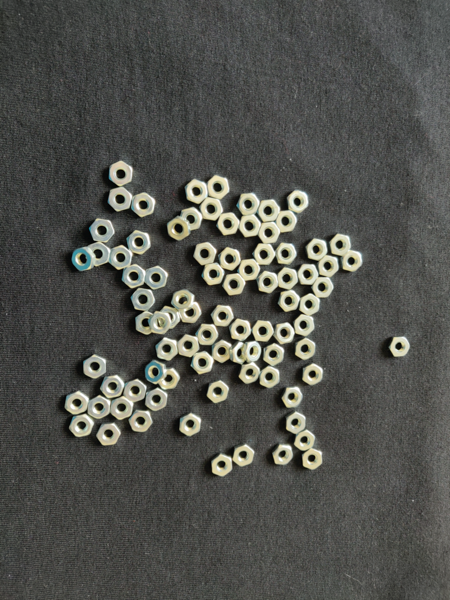nut: (108, 187, 133, 213), (109, 161, 133, 188), (64, 391, 89, 416), (89, 219, 115, 243), (127, 230, 151, 256), (122, 264, 146, 290), (70, 414, 95, 438), (100, 375, 125, 399), (131, 193, 156, 217), (206, 175, 230, 200), (109, 245, 132, 271), (167, 216, 190, 242), (97, 422, 121, 446), (131, 288, 155, 312), (185, 180, 209, 204), (87, 395, 110, 420), (144, 267, 169, 290), (83, 355, 106, 379), (111, 397, 134, 421), (129, 410, 153, 433), (72, 247, 95, 271), (180, 207, 203, 231), (199, 198, 223, 221), (190, 352, 214, 375), (216, 212, 240, 235), (124, 379, 147, 402), (145, 388, 168, 411), (148, 312, 171, 335), (194, 243, 217, 266), (202, 263, 225, 286), (239, 214, 262, 237), (156, 338, 178, 362), (171, 290, 195, 312), (237, 194, 261, 216), (287, 190, 309, 214), (89, 242, 110, 267), (212, 453, 233, 478), (233, 443, 254, 468), (145, 361, 167, 384), (158, 306, 180, 329), (179, 302, 202, 324), (178, 335, 200, 358), (219, 248, 241, 271), (223, 274, 246, 296), (238, 259, 261, 281), (257, 200, 280, 222), (253, 243, 276, 265), (229, 319, 251, 342), (242, 340, 264, 363), (263, 344, 285, 367), (257, 271, 279, 294), (299, 294, 321, 317), (306, 238, 328, 261), (180, 413, 201, 437), (158, 368, 180, 390), (212, 305, 234, 327), (258, 222, 280, 244), (273, 323, 295, 345), (278, 290, 300, 312), (275, 243, 297, 265), (330, 234, 352, 256), (136, 312, 157, 335), (195, 325, 218, 346), (276, 210, 297, 233), (252, 321, 275, 342), (277, 267, 298, 290), (286, 411, 306, 435), (208, 381, 229, 403), (273, 444, 294, 466), (302, 449, 323, 471), (282, 387, 304, 408), (302, 364, 323, 386), (294, 315, 315, 337), (298, 264, 319, 286), (318, 256, 339, 278), (342, 251, 363, 273), (296, 338, 316, 361), (213, 340, 232, 364), (389, 337, 410, 358), (240, 362, 260, 384), (312, 278, 334, 298), (230, 342, 248, 366), (295, 430, 315, 451), (260, 366, 279, 388)
